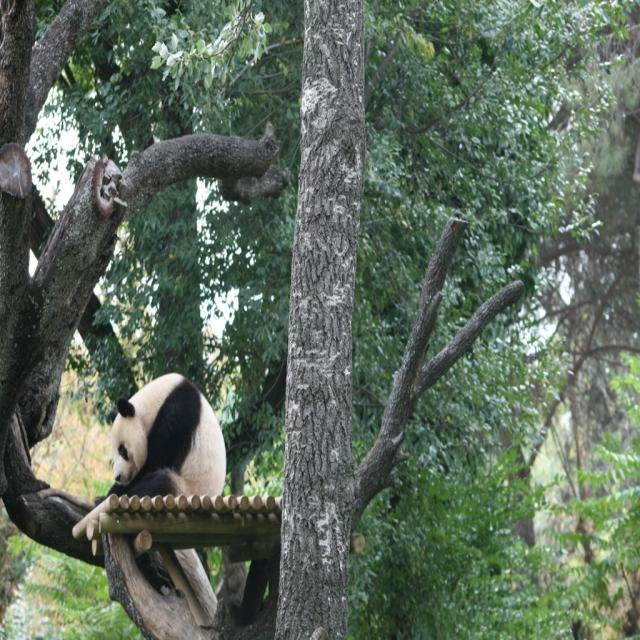panda: (95, 368, 225, 503)
